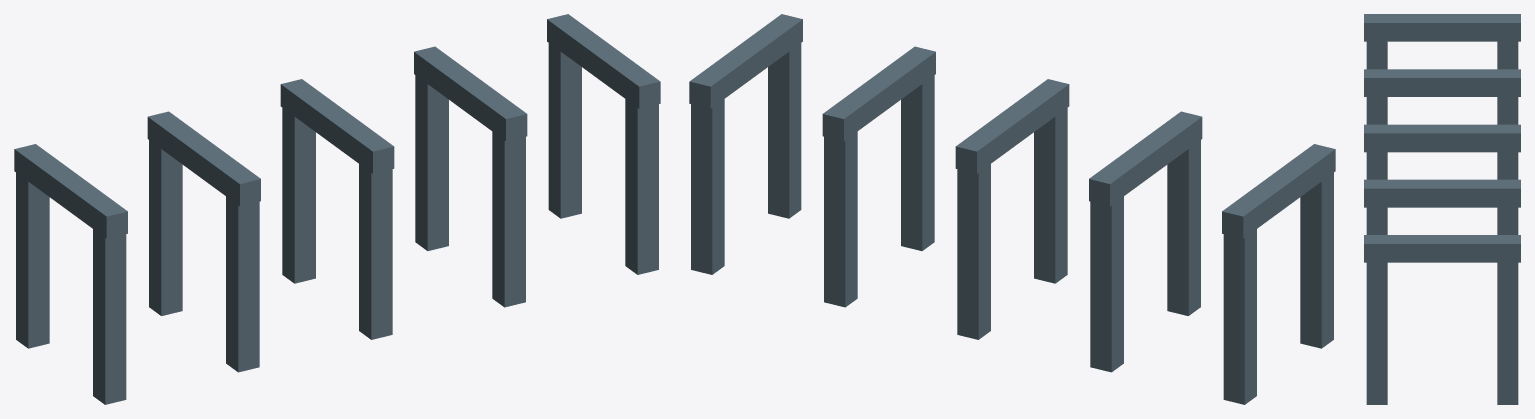
Rendered from voxel-city-districts-cycle-rack-e3443dda__24862.glb.
The picture shows the model from 3 angles, left to right: view 1: azimuth 30°, elevation 25°; view 2: azimuth 150°, elevation 25°; view 3: azimuth 270°, elevation 25°; orthographic projection. The views are drawn at different scales.
Parts seen in each view (by area): view 1: cycle-rack-dark; view 2: cycle-rack-dark; view 3: cycle-rack-dark.
Part boxes in pixels (left/top/right/bottom): cycle-rack-dark: left=14, top=14, right=660, bottom=404; cycle-rack-dark: left=689, top=14, right=1335, bottom=404; cycle-rack-dark: left=1364, top=14, right=1520, bottom=404.
Size of the model in its own units: 2.08 by 0.68 by 0.6001.
